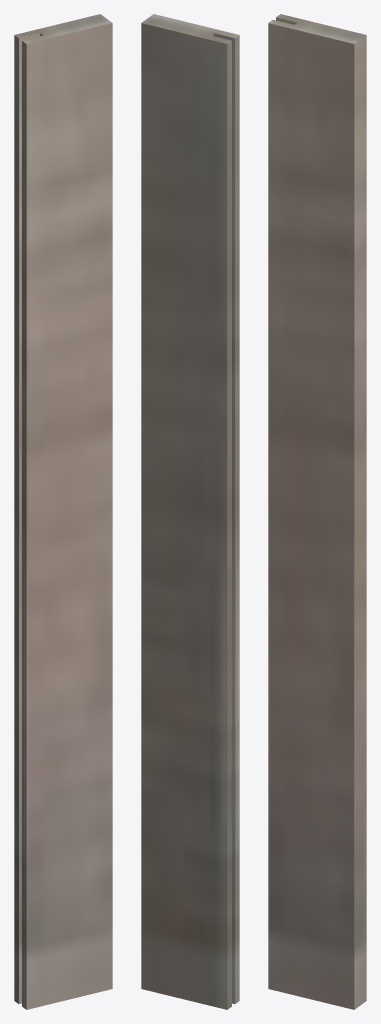
File: original-53.obj
3 renders of one model, left to right at view 1: azimuth 30°, elevation 25°; view 2: azimuth 150°, elevation 25°; view 3: azimuth 330°, elevation 25°, orthographic.
Visible parts, largest first — view 1: Door_Rail2_1/Door_Rail2/mesh93/mesh93-geometry#mesh93-geometry; view 2: Door_Rail2_1/Door_Rail2/mesh93/mesh93-geometry#mesh93-geometry; view 3: Door_Rail2_1/Door_Rail2/mesh93/mesh93-geometry#mesh93-geometry.
Part boxes in pixels (x1,y1,x2,y2): Door_Rail2_1/Door_Rail2/mesh93/mesh93-geometry#mesh93-geometry: (14,14,112,1009); Door_Rail2_1/Door_Rail2/mesh93/mesh93-geometry#mesh93-geometry: (141,14,239,1009); Door_Rail2_1/Door_Rail2/mesh93/mesh93-geometry#mesh93-geometry: (268,14,366,1009).
Bounding box in the file's own units: 0.0728 × 0.7795 × 0.0182.
